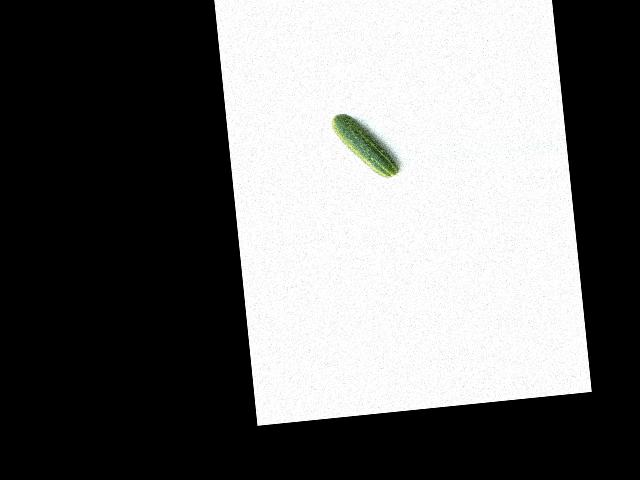cucumber: (330, 109, 400, 183)
